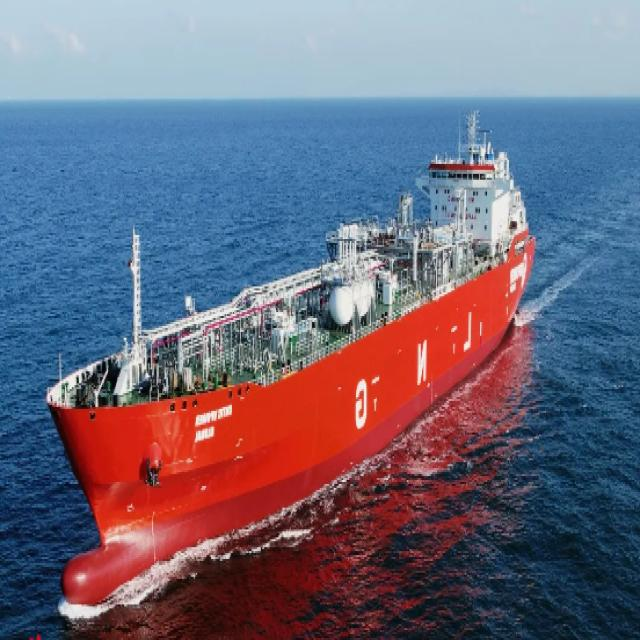cargoship: (49, 102, 534, 616)
